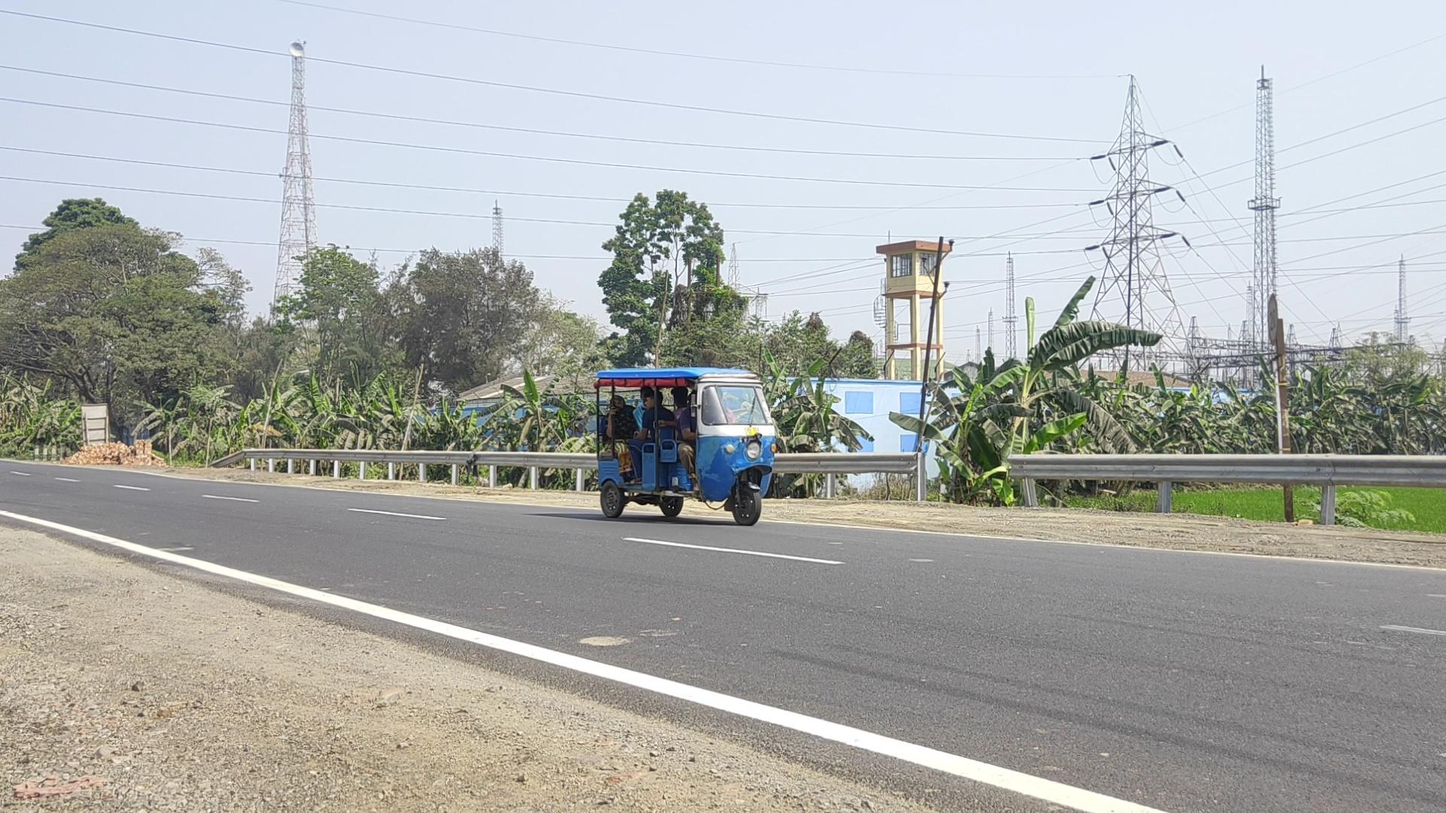Auto: (594, 367, 776, 527)
